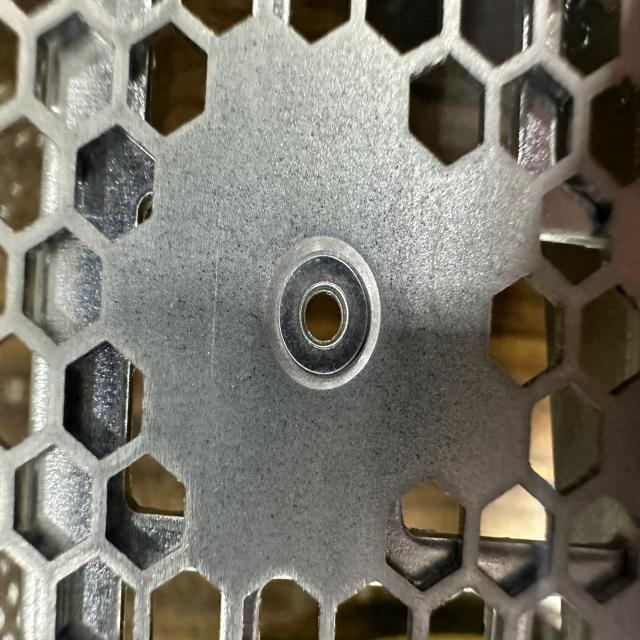Missing screw: (253, 221, 394, 411)
